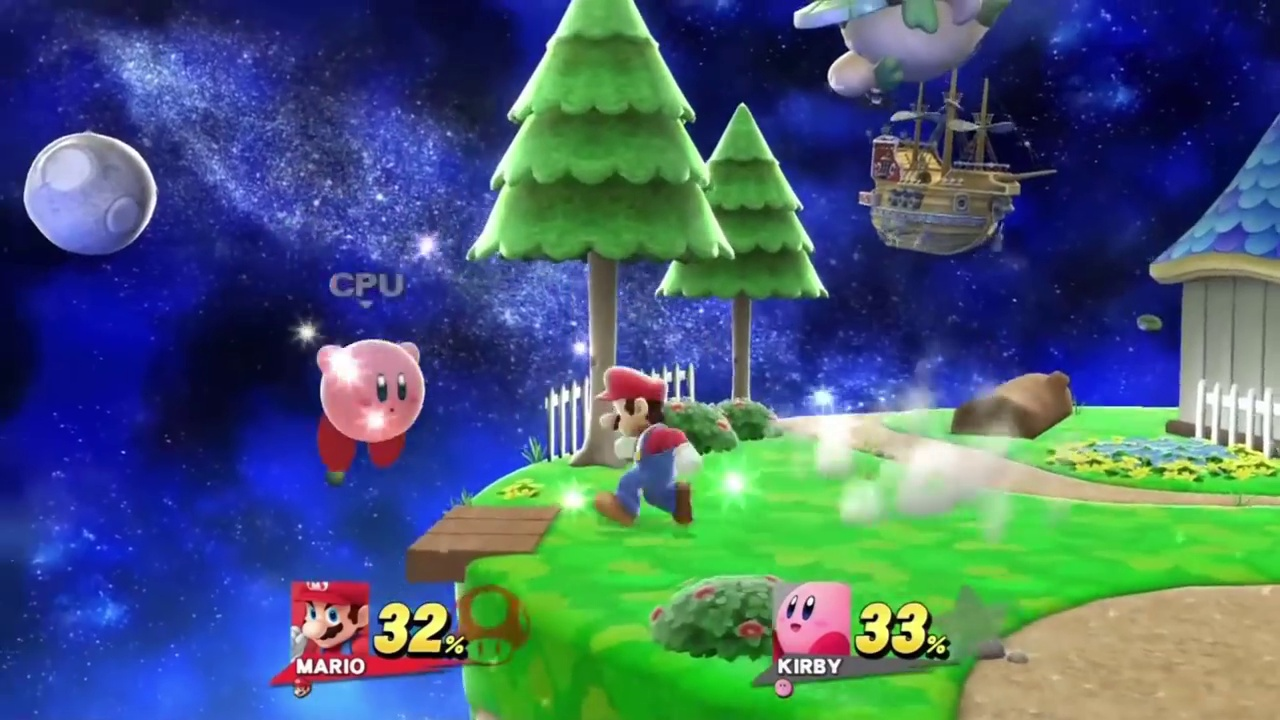Mario: (592, 367, 705, 530)
